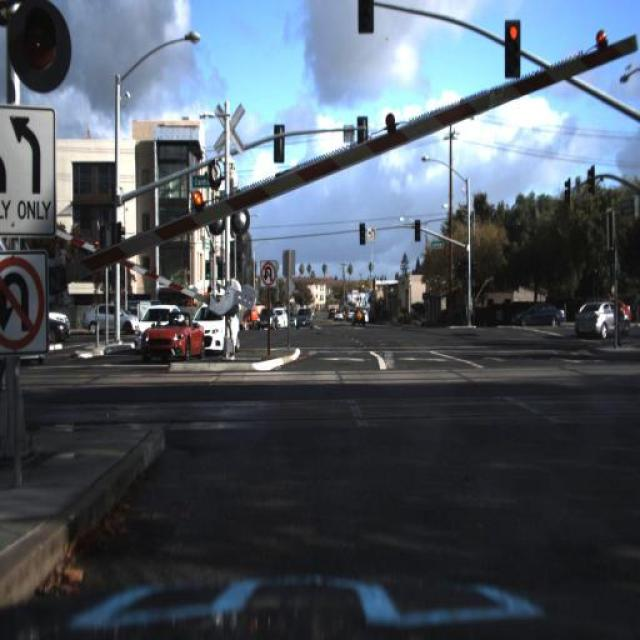car: (563, 280, 615, 350), (142, 306, 206, 360), (76, 302, 142, 342), (196, 308, 242, 357), (514, 293, 567, 332), (510, 301, 566, 329), (36, 316, 70, 346), (44, 316, 68, 352), (353, 299, 372, 333), (253, 308, 276, 334), (46, 310, 74, 330), (294, 304, 314, 331), (272, 305, 288, 336), (253, 305, 272, 327), (618, 287, 628, 324), (344, 300, 354, 326)
trafficLight: (610, 294, 624, 358)
trafficLight-Green: (0, 0, 106, 101), (503, 19, 521, 80), (356, 210, 372, 250), (412, 214, 422, 242)
trafficLight-GreenLeft: (459, 250, 470, 284)
trafficLight-RedLeft: (496, 12, 529, 87)
